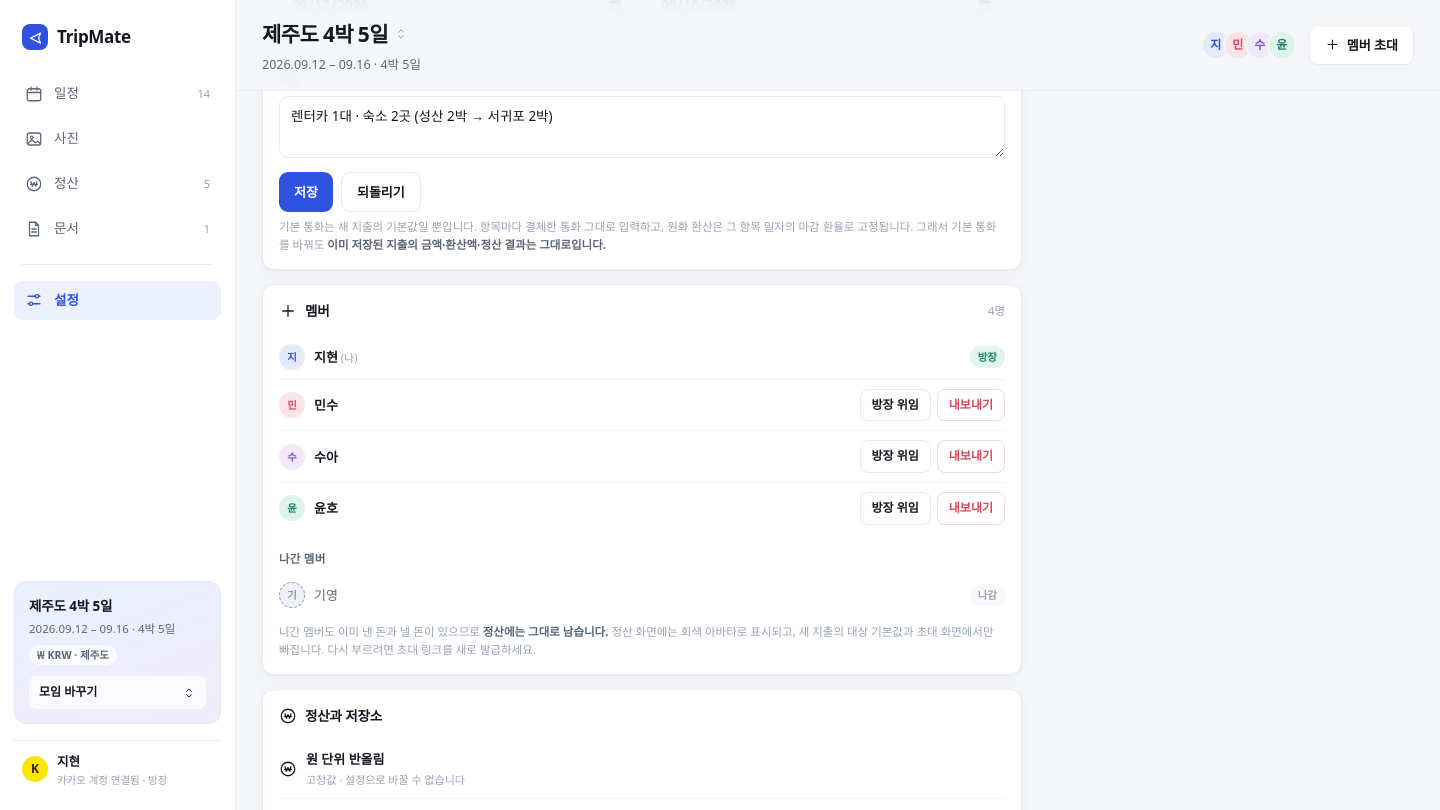
설정 화면 › 방장에게는 위임·내보내기·모임 삭제가 있고, 내보내기 확인도 모달이다
This screenshot has width=1440, height=810.
(page scrolled)
Check: the number of buttons "방장 위임" is 3, box left=860, top=389, right=931, bottom=421; left=860, top=440, right=931, bottom=473; left=860, top=492, right=931, bottom=524
Click the button "내보내기" in the row of "민수": [971, 405] box left=937, top=389, right=1005, bottom=421
(page scrolled)
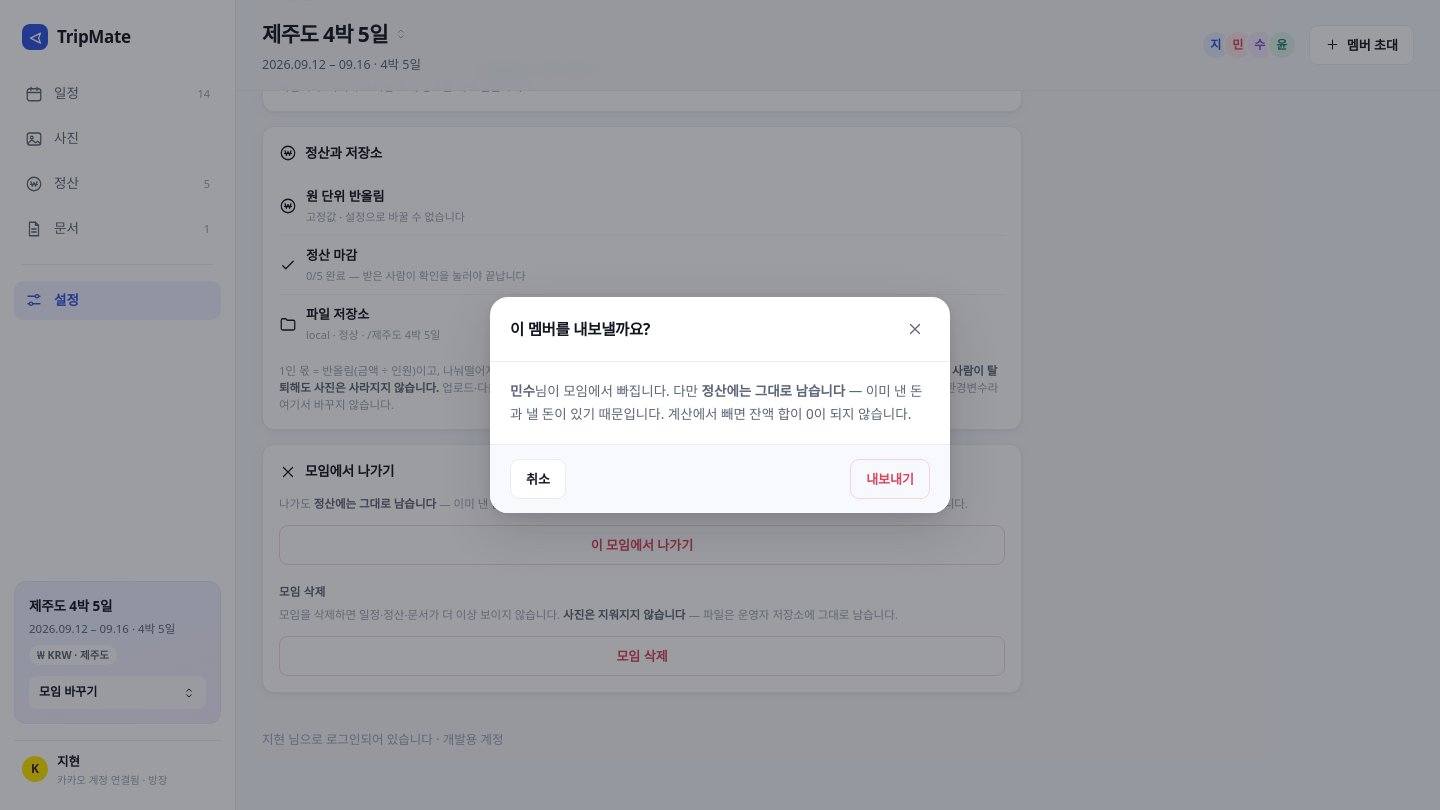
Check: the button "모임 삭제" is shown, box left=279, top=636, right=1005, bottom=676
Check: the dialog shows "정산에는 그대로 남습니다", box left=702, top=382, right=845, bottom=400
Check: the dialog shows "계산에서 빼면 잔액 합이 0이 되지 않습니다", box left=510, top=382, right=922, bottom=423
